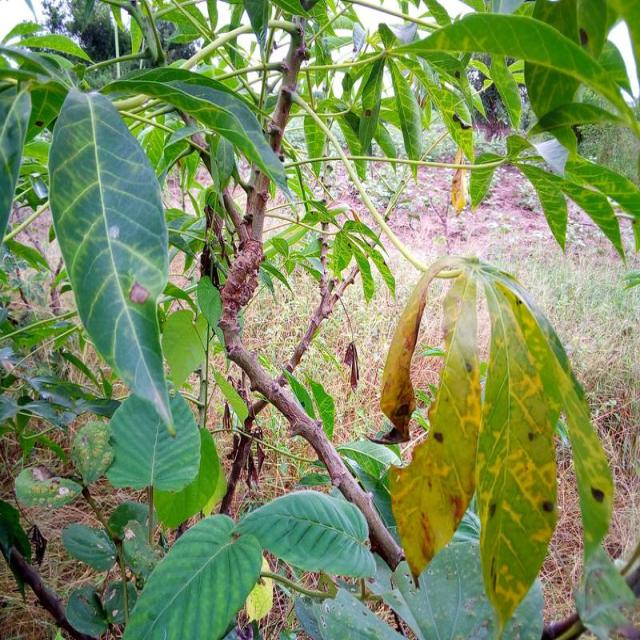cassava leaf: (380, 252, 615, 634), (46, 87, 176, 436), (120, 512, 262, 639)
